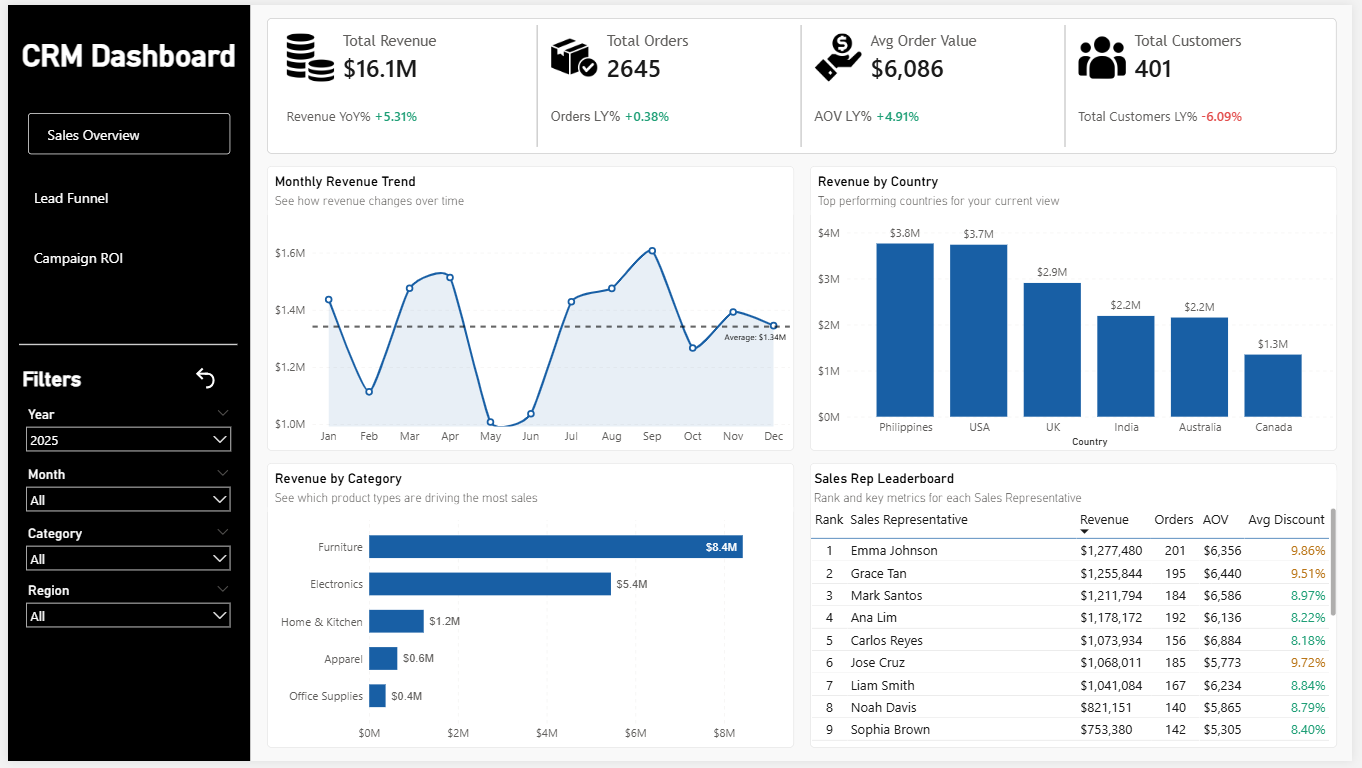

What the dashboard file says about the page in this screenshot:
{"tool":"powerbi","page":{"name":"Sales Revenue","canvas":[1920,1080],"ordinal":0},"visuals":[{"type":"lineChart","title":"Monthly Revenue Trend","fields":{"Category":["DateTable.MonthName"],"Y":["_measures.Total Revenue"]},"box":[370,230,752.9,407.1],"z":0},{"type":"cardVisual","title":"s","fields":{"Data":["_measures.Total Revenue","_measures.Total Orders","_measures.Avg Order Value","_measures.Unique Customers"]},"box":[369.8,18.6,1528.2,194.2],"z":1000},{"type":"shape","box":[0,0,345.7,1080],"z":2000},{"type":"columnChart","title":"Revenue by Country","fields":{"Category":["ecom_orders.country"],"Y":["_measures.Total Revenue"]},"box":[1145.7,230,752.9,407.1],"z":3000},{"type":"barChart","title":"Revenue by Category","fields":{"Category":["ecom_order_items.category"],"Y":["_measures.Total Revenue"]},"box":[370,654.3,752.9,407.1],"z":4000},{"type":"slicer","fields":{"Values":["DateTable.Year"]},"box":[16,569.3,312.6,85.1],"z":5000},{"type":"slicer","fields":{"Values":["ecom_sales_reps.region"]},"box":[16,819.9,312.2,78.8],"z":6000},{"type":"slicer","fields":{"Values":["ecom_order_items.category"]},"box":[16,738.2,312.2,81.7],"z":7000},{"type":"tableEx","title":" Sales Rep Leaderboard","fields":{"Values":["_measures.Rep Rank","ecom_sales_reps.name","_measures.Total Revenue","_measures.Total Orders","_measures.Avg Order Value","_measures.Avg Discount"]},"box":[1145.7,654.3,752.9,407.1],"z":8000},{"type":"slicer","fields":{"Values":["DateTable.MonthName"]},"box":[16,653.6,312.2,84.6],"z":9000},{"type":"shape","box":[15.4,449.2,312.1,72.8],"z":10000},{"type":"textbox","box":[15.4,512.2,312.1,43.4],"z":11000},{"type":"actionButton","box":[29.3,154.3,288.6,58.5],"z":12000},{"type":"actionButton","box":[29.4,243.9,288,58.8],"z":13000},{"type":"actionButton","box":[29.4,329.3,288.3,58.8],"z":14000},{"type":"textbox","box":[0,42,345.7,64.4],"z":15000},{"type":"actionButton","box":[247.4,513.4,70.5,39.9],"z":16000}]}

Visuals, with their boxes on the page's 1920x1080 design canvas (x1, y1, x2, y2). These are canvas units, not pixel positions in the 1362x768 screenshot, which may show the page scaled, cropped or inside an application window:
"Monthly Revenue Trend" lineChart: box=[370, 230, 1123, 637]
"s" cardVisual: box=[370, 19, 1898, 213]
shape: box=[0, 0, 346, 1080]
"Revenue by Country" columnChart: box=[1146, 230, 1899, 637]
"Revenue by Category" barChart: box=[370, 654, 1123, 1061]
slicer - DateTable.Year: box=[16, 569, 329, 654]
slicer - ecom_sales_reps.region: box=[16, 820, 328, 899]
slicer - ecom_order_items.category: box=[16, 738, 328, 820]
" Sales Rep Leaderboard" tableEx: box=[1146, 654, 1899, 1061]
slicer - DateTable.MonthName: box=[16, 654, 328, 738]
shape: box=[15, 449, 328, 522]
textbox: box=[15, 512, 328, 556]
actionButton: box=[29, 154, 318, 213]
actionButton: box=[29, 244, 317, 303]
actionButton: box=[29, 329, 318, 388]
textbox: box=[0, 42, 346, 106]
actionButton: box=[247, 513, 318, 553]
